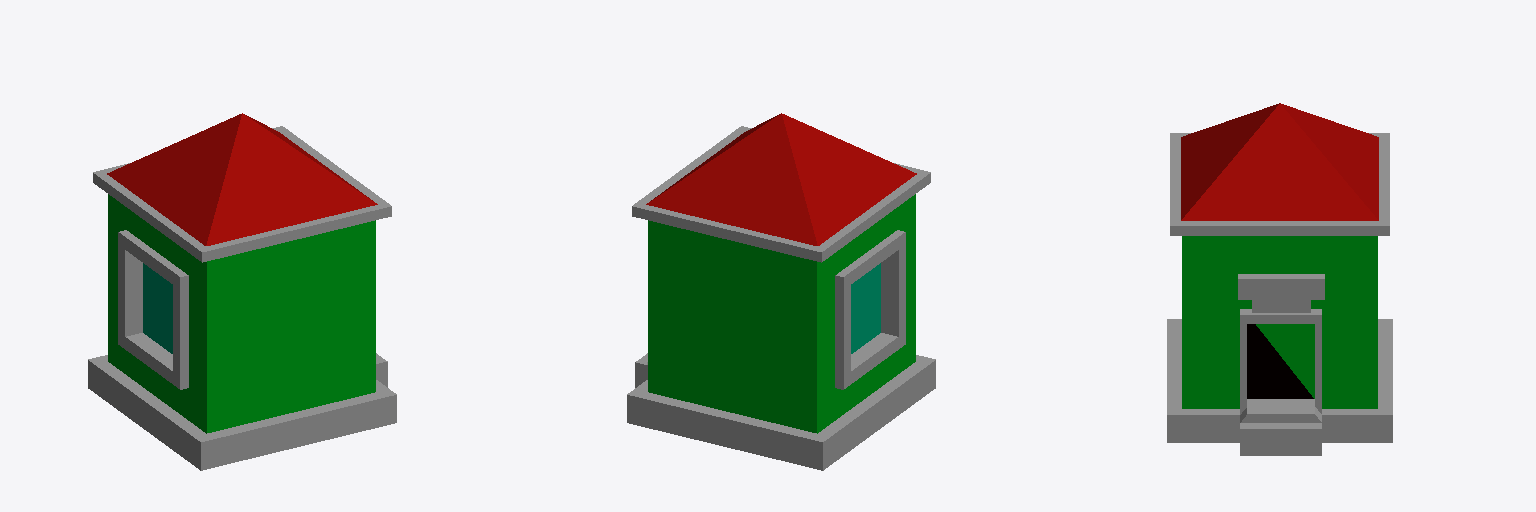
The model's file is house3.obj.
The picture shows the model from 3 angles: view 1: azimuth 30°, elevation 25°; view 2: azimuth 150°, elevation 25°; view 3: azimuth 270°, elevation 25°; orthographic projection.
Parts seen in each view (by area): view 1: Cube; view 2: Cube; view 3: Cube.
Boxes of the visible parts, box(x1,y1,x2,y2) form: Cube: box(88, 113, 396, 470); Cube: box(627, 113, 935, 470); Cube: box(1167, 103, 1392, 455).
Size of the model in its own units: 2.63 by 3.29 by 2.31.